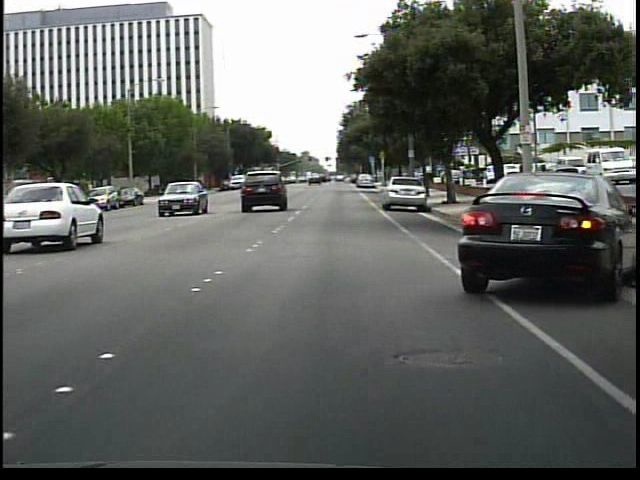person: (517, 160, 537, 215), (534, 158, 555, 198)
